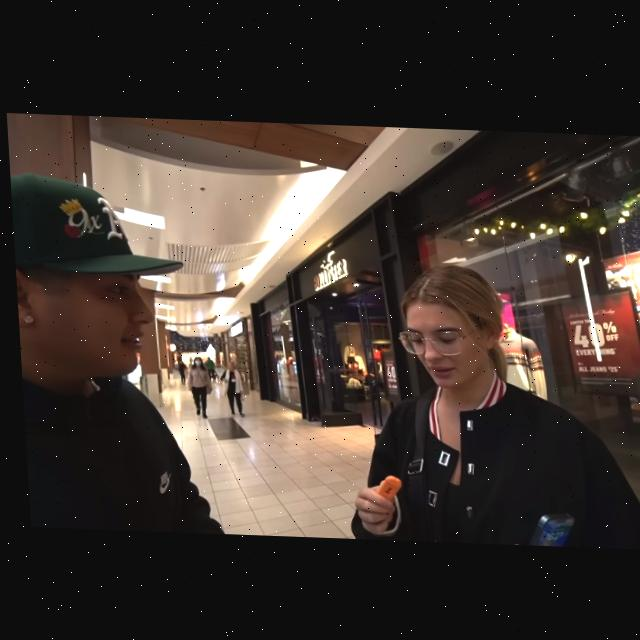vape: (370, 472, 398, 499)
